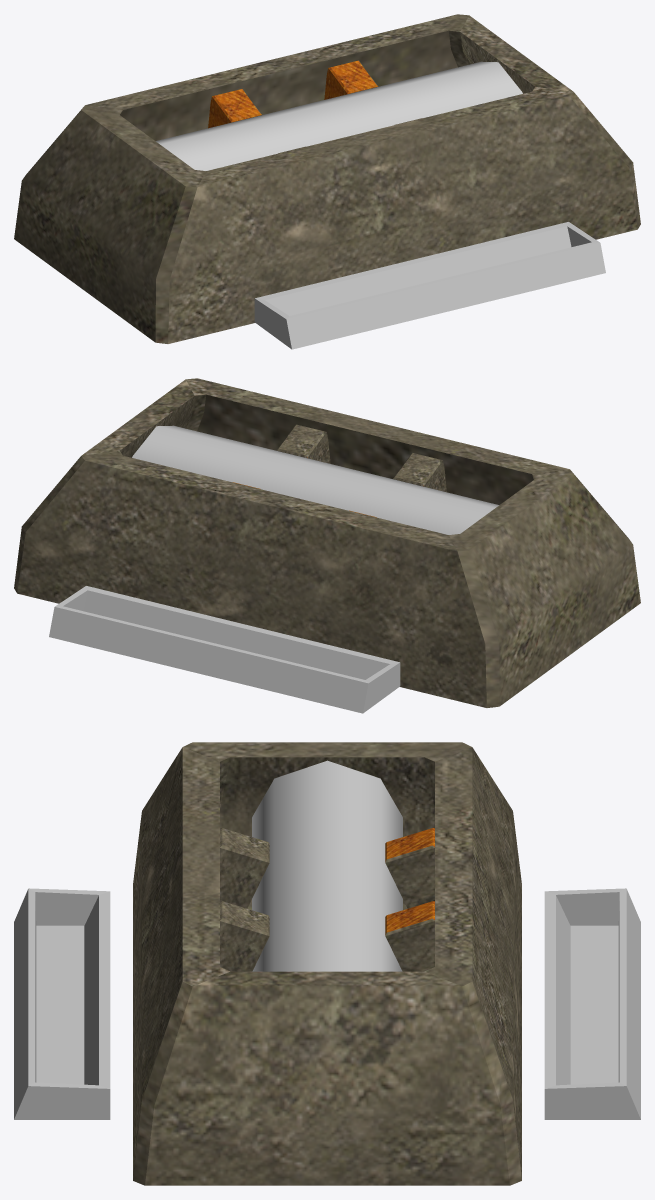
File: pad.fbx
3 views of the same model, one above another, from view 1: azimuth 30°, elevation 25°; view 2: azimuth 150°, elevation 25°; view 3: azimuth 270°, elevation 25° (orthographic). The views are drawn at different scales.
Parts seen in each view (by area): view 1: polySurface14, polySurface13, polySurface26, polySurface24; view 2: polySurface14, polySurface13, polySurface25, polySurface23; view 3: polySurface14, polySurface13, polySurface23, polySurface24, polySurface25, polySurface26.
Boxes of the visible parts, x1=… form: polySurface14: x1=14, y1=14, x2=640, y2=343; polySurface13: x1=156, y1=61, x2=605, y2=349; polySurface26: x1=324, y1=60, x2=378, y2=99; polySurface24: x1=208, y1=89, x2=261, y2=128; polySurface14: x1=14, y1=378, x2=640, y2=707; polySurface13: x1=49, y1=425, x2=498, y2=713; polySurface25: x1=276, y1=424, x2=330, y2=463; polySurface23: x1=393, y1=453, x2=446, y2=492; polySurface14: x1=133, y1=742, x2=521, y2=1185; polySurface13: x1=14, y1=760, x2=640, y2=1119; polySurface23: x1=220, y1=828, x2=269, y2=908; polySurface24: x1=385, y1=828, x2=434, y2=908; polySurface25: x1=220, y1=901, x2=269, y2=971; polySurface26: x1=385, y1=901, x2=434, y2=971.
Size of the model in its own units: 4.9 by 1.27 by 4.25.
